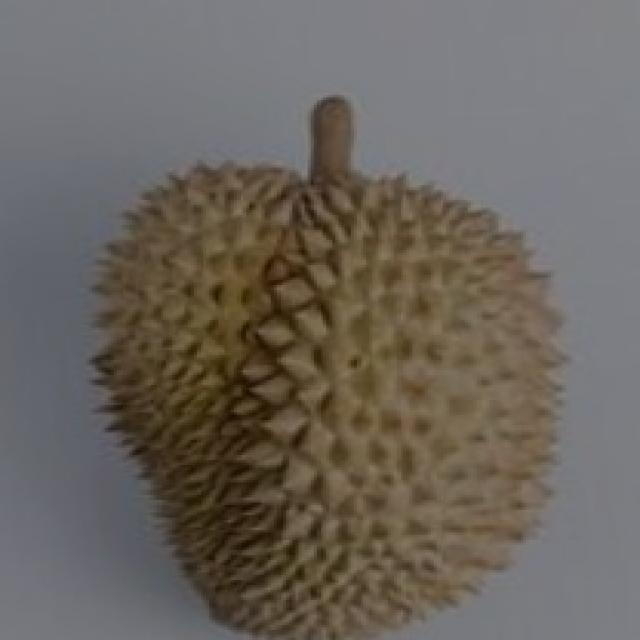fruit: (58, 270, 450, 640)
